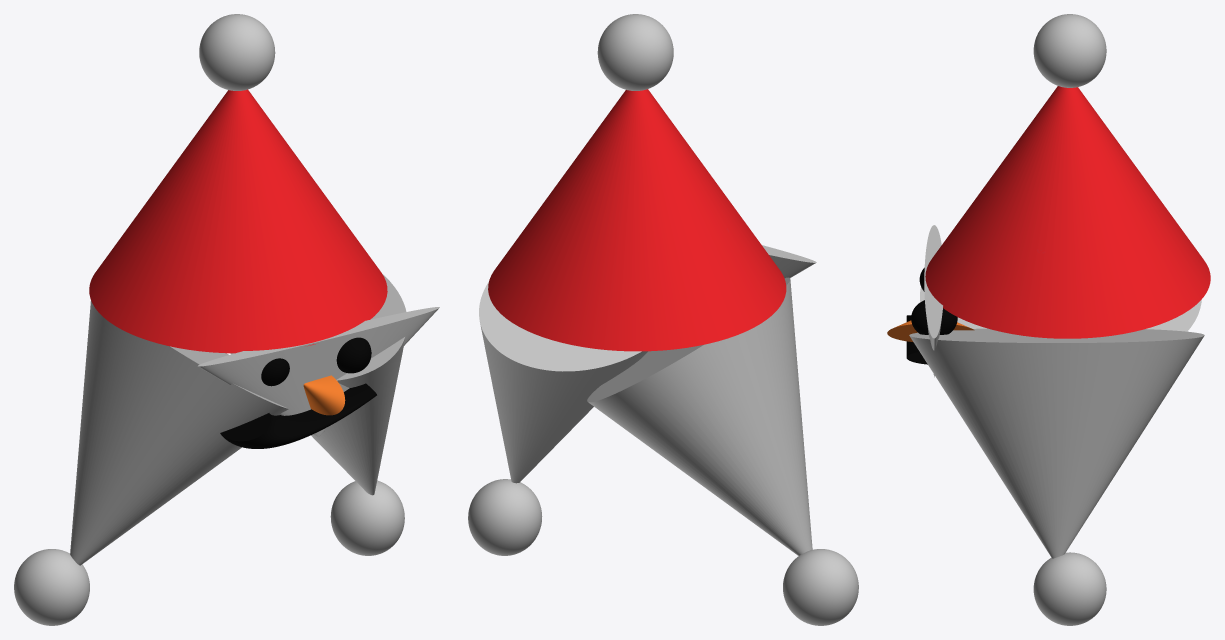
Rendered from omoko.fbx.
3 views of the same model, side by side, from view 1: azimuth 30°, elevation 25°; view 2: azimuth 150°, elevation 25°; view 3: azimuth 270°, elevation 25° (orthographic). The views are drawn at different scales.
Visible parts, largest first — view 1: root (×11); view 2: root (×7); view 3: root (×8).
Part boxes in pixels (bbox=[...]): root (×11): bbox=[14, 14, 439, 625]; root (×7): bbox=[468, 14, 858, 625]; root (×8): bbox=[887, 14, 1210, 625].
Bounding box in the file's own units: 0.3267 × 0.4651 × 0.2506.
Materials: 9 (1 with a texture image).
